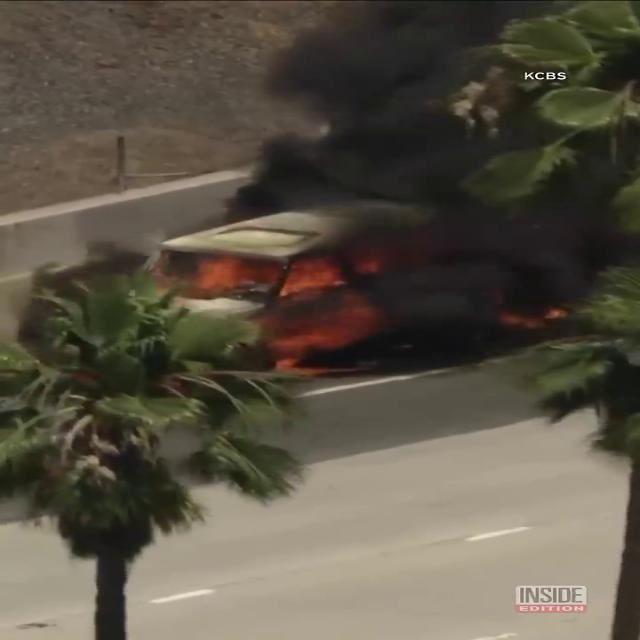Fire: (187, 250, 350, 306)
Smoke: (222, 0, 638, 336)
